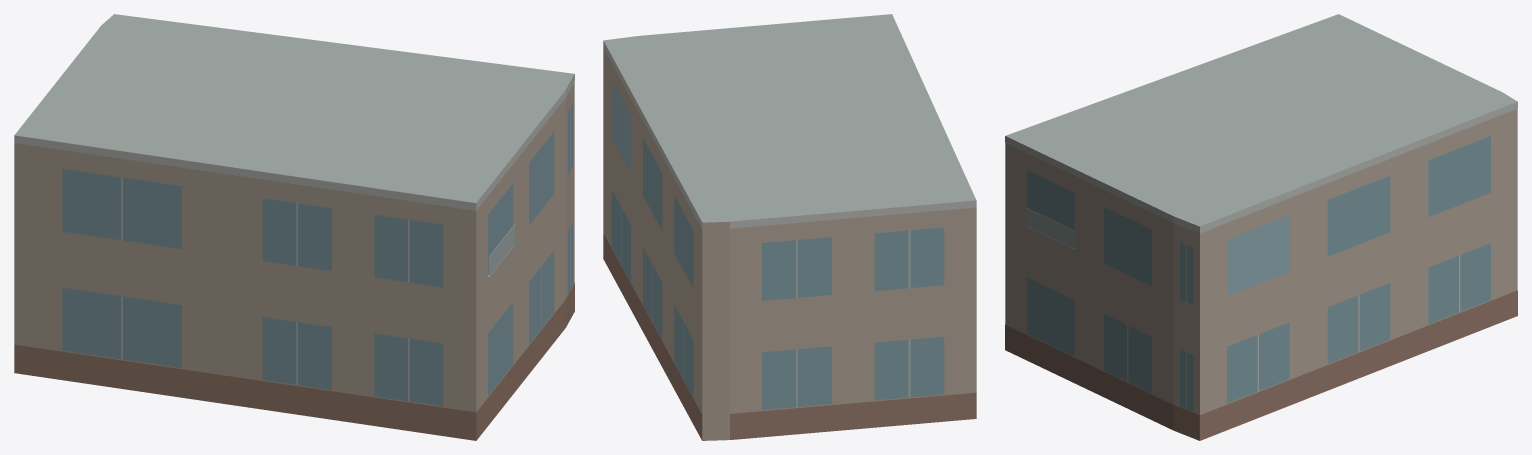
The model's file is survey-upis-32627735.glb.
3 renders of one model, left to right at view 1: azimuth 30°, elevation 25°; view 2: azimuth 150°, elevation 25°; view 3: azimuth 270°, elevation 25°, orthographic. The views are drawn at different scales.
Parts seen in each view (by area): view 1: survey-upis-32627735.tmp; view 2: survey-upis-32627735.tmp; view 3: survey-upis-32627735.tmp.
Boxes of the visible parts, x1,y1,x2,y2 form: survey-upis-32627735.tmp: (14, 14, 574, 440); survey-upis-32627735.tmp: (603, 14, 976, 440); survey-upis-32627735.tmp: (1005, 14, 1517, 440).
Size of the model in its own units: 16.18 by 7.6 by 16.49.
